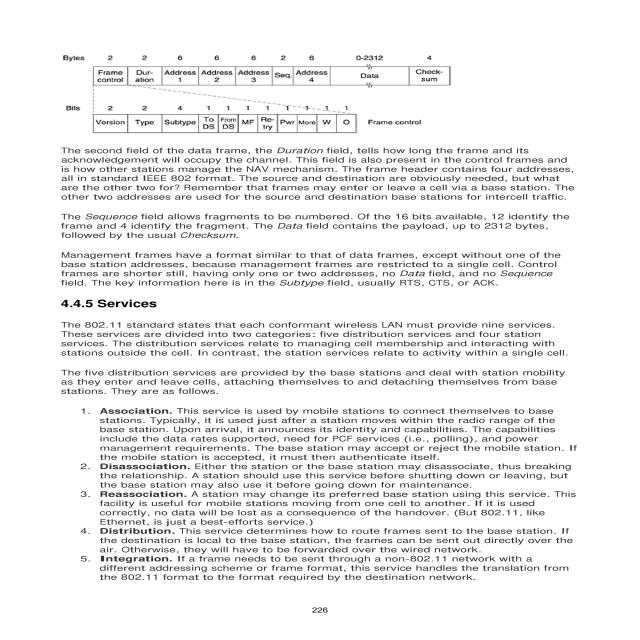diagram: (49, 33, 501, 137)
